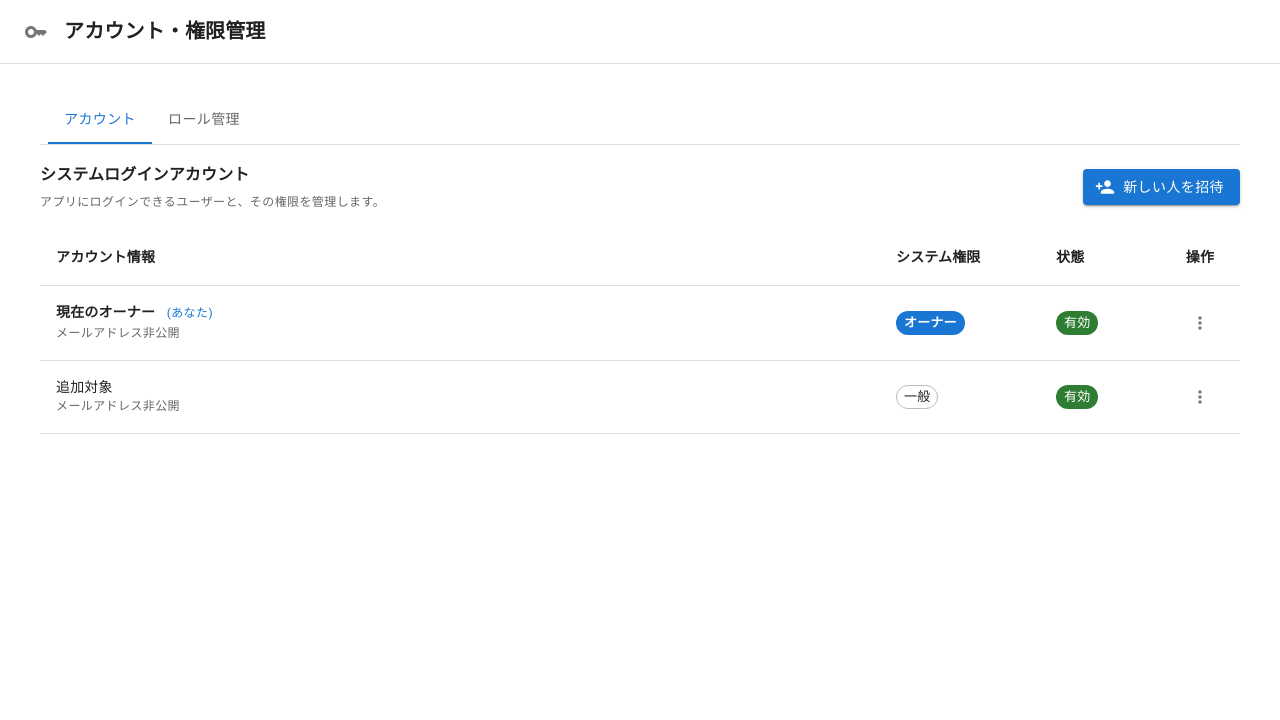
Test: owner addition UI › does not expose addition to a non-owner with accounts permission
The image size is (1280, 720).
Click the button named "追加対象の操作" at [1200, 397], box [1185,382,1215,412]
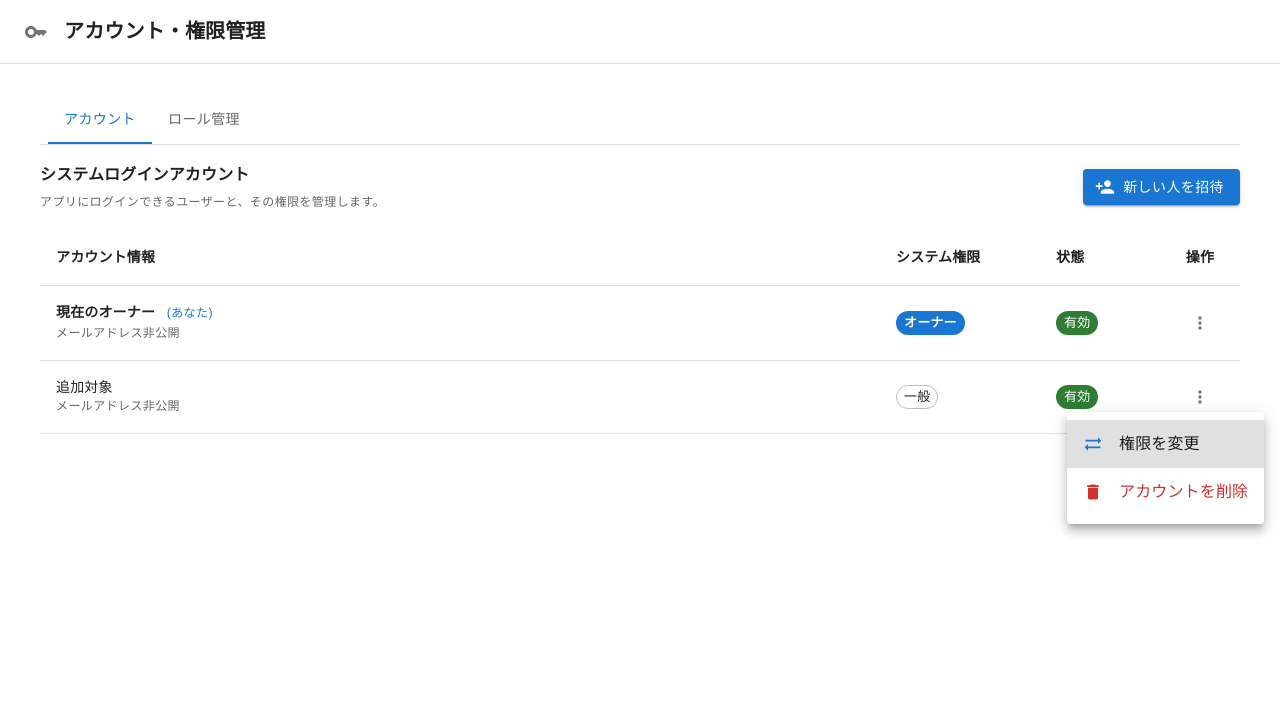
Expected: the menu item "権限を変更" is shown, [1067,420,1264,468]
